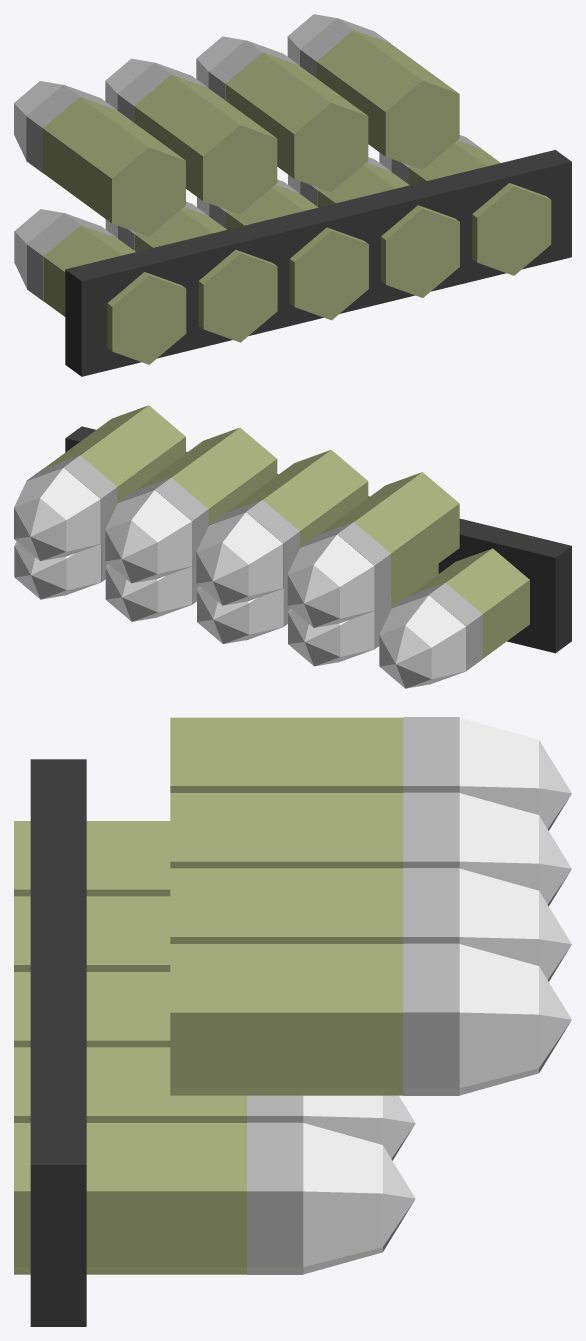
The model's file is ce_ammo_grenade_smk_b.obj.
3 views of the same model, one above another, from view 1: azimuth 30°, elevation 25°; view 2: azimuth 150°, elevation 25°; view 3: azimuth 270°, elevation 25° (orthographic). The views are drawn at different scales.
Parts seen in each view (by area): view 1: ce_ammo_grenade_smk_b_36, ce_ammo_grenade_smk_b_20, ce_ammo_grenade_smk_b_28, ce_ammo_grenade_smk_b_24, ce_ammo_grenade_smk_b_32, ce_ammo_grenade_smk_b_0, ce_ammo_grenade_smk_b_16, ce_ammo_grenade_smk_b_8, ce_ammo_grenade_smk_b_4, ce_ammo_grenade_smk_b_12, ce_ammo_grenade_smk_b_21, ce_ammo_grenade_smk_b_1 (+8 smaller); view 2: ce_ammo_grenade_smk_b_20, ce_ammo_grenade_smk_b_36, ce_ammo_grenade_smk_b_28, ce_ammo_grenade_smk_b_24, ce_ammo_grenade_smk_b_32, ce_ammo_grenade_smk_b_0, ce_ammo_grenade_smk_b_22, ce_ammo_grenade_smk_b_30, ce_ammo_grenade_smk_b_34, ce_ammo_grenade_smk_b_2, ce_ammo_grenade_smk_b_26, ce_ammo_grenade_smk_b_3 (+19 smaller); view 3: ce_ammo_grenade_smk_b_32, ce_ammo_grenade_smk_b_36, ce_ammo_grenade_smk_b_16, ce_ammo_grenade_smk_b_28, ce_ammo_grenade_smk_b_20, ce_ammo_grenade_smk_b_24, ce_ammo_grenade_smk_b_34, ce_ammo_grenade_smk_b_18, ce_ammo_grenade_smk_b_12, ce_ammo_grenade_smk_b_33, ce_ammo_grenade_smk_b_17, ce_ammo_grenade_smk_b_4 (+16 smaller).
Part boxes in pixels (x1,y1,x2,y2): ce_ammo_grenade_smk_b_36: [65, 150, 571, 376]; ce_ammo_grenade_smk_b_20: [43, 97, 185, 236]; ce_ammo_grenade_smk_b_28: [225, 52, 368, 192]; ce_ammo_grenade_smk_b_24: [134, 75, 277, 214]; ce_ammo_grenade_smk_b_32: [316, 30, 459, 169]; ce_ammo_grenade_smk_b_0: [43, 225, 186, 364]; ce_ammo_grenade_smk_b_16: [408, 140, 551, 275]; ce_ammo_grenade_smk_b_8: [226, 185, 368, 320]; ce_ammo_grenade_smk_b_4: [135, 207, 277, 342]; ce_ammo_grenade_smk_b_12: [317, 162, 459, 297]; ce_ammo_grenade_smk_b_21: [26, 84, 116, 172]; ce_ammo_grenade_smk_b_1: [27, 213, 117, 301]; ce_ammo_grenade_smk_b_20: [318, 472, 459, 597]; ce_ammo_grenade_smk_b_36: [65, 426, 571, 653]; ce_ammo_grenade_smk_b_28: [135, 427, 277, 524]; ce_ammo_grenade_smk_b_24: [226, 450, 368, 547]; ce_ammo_grenade_smk_b_32: [44, 405, 185, 503]; ce_ammo_grenade_smk_b_0: [409, 548, 529, 658]; ce_ammo_grenade_smk_b_22: [288, 534, 374, 627]; ce_ammo_grenade_smk_b_30: [105, 490, 191, 583]; ce_ammo_grenade_smk_b_34: [14, 468, 100, 560]; ce_ammo_grenade_smk_b_2: [379, 595, 465, 688]; ce_ammo_grenade_smk_b_26: [196, 512, 282, 605]; ce_ammo_grenade_smk_b_3: [379, 625, 431, 688]; ce_ammo_grenade_smk_b_32: [170, 944, 403, 1095]; ce_ammo_grenade_smk_b_36: [30, 759, 86, 1326]; ce_ammo_grenade_smk_b_16: [14, 1123, 246, 1274]; ce_ammo_grenade_smk_b_28: [170, 868, 403, 943]; ce_ammo_grenade_smk_b_20: [170, 717, 403, 792]; ce_ammo_grenade_smk_b_24: [170, 793, 403, 868]; ce_ammo_grenade_smk_b_34: [459, 944, 538, 1095]; ce_ammo_grenade_smk_b_18: [303, 1123, 382, 1274]; ce_ammo_grenade_smk_b_12: [14, 1047, 246, 1122]; ce_ammo_grenade_smk_b_33: [403, 943, 459, 1095]; ce_ammo_grenade_smk_b_17: [247, 1122, 303, 1274]; ce_ammo_grenade_smk_b_4: [14, 896, 170, 971].
Bounding box in the file's own units: 0.86 × 0.2904 × 0.5.
